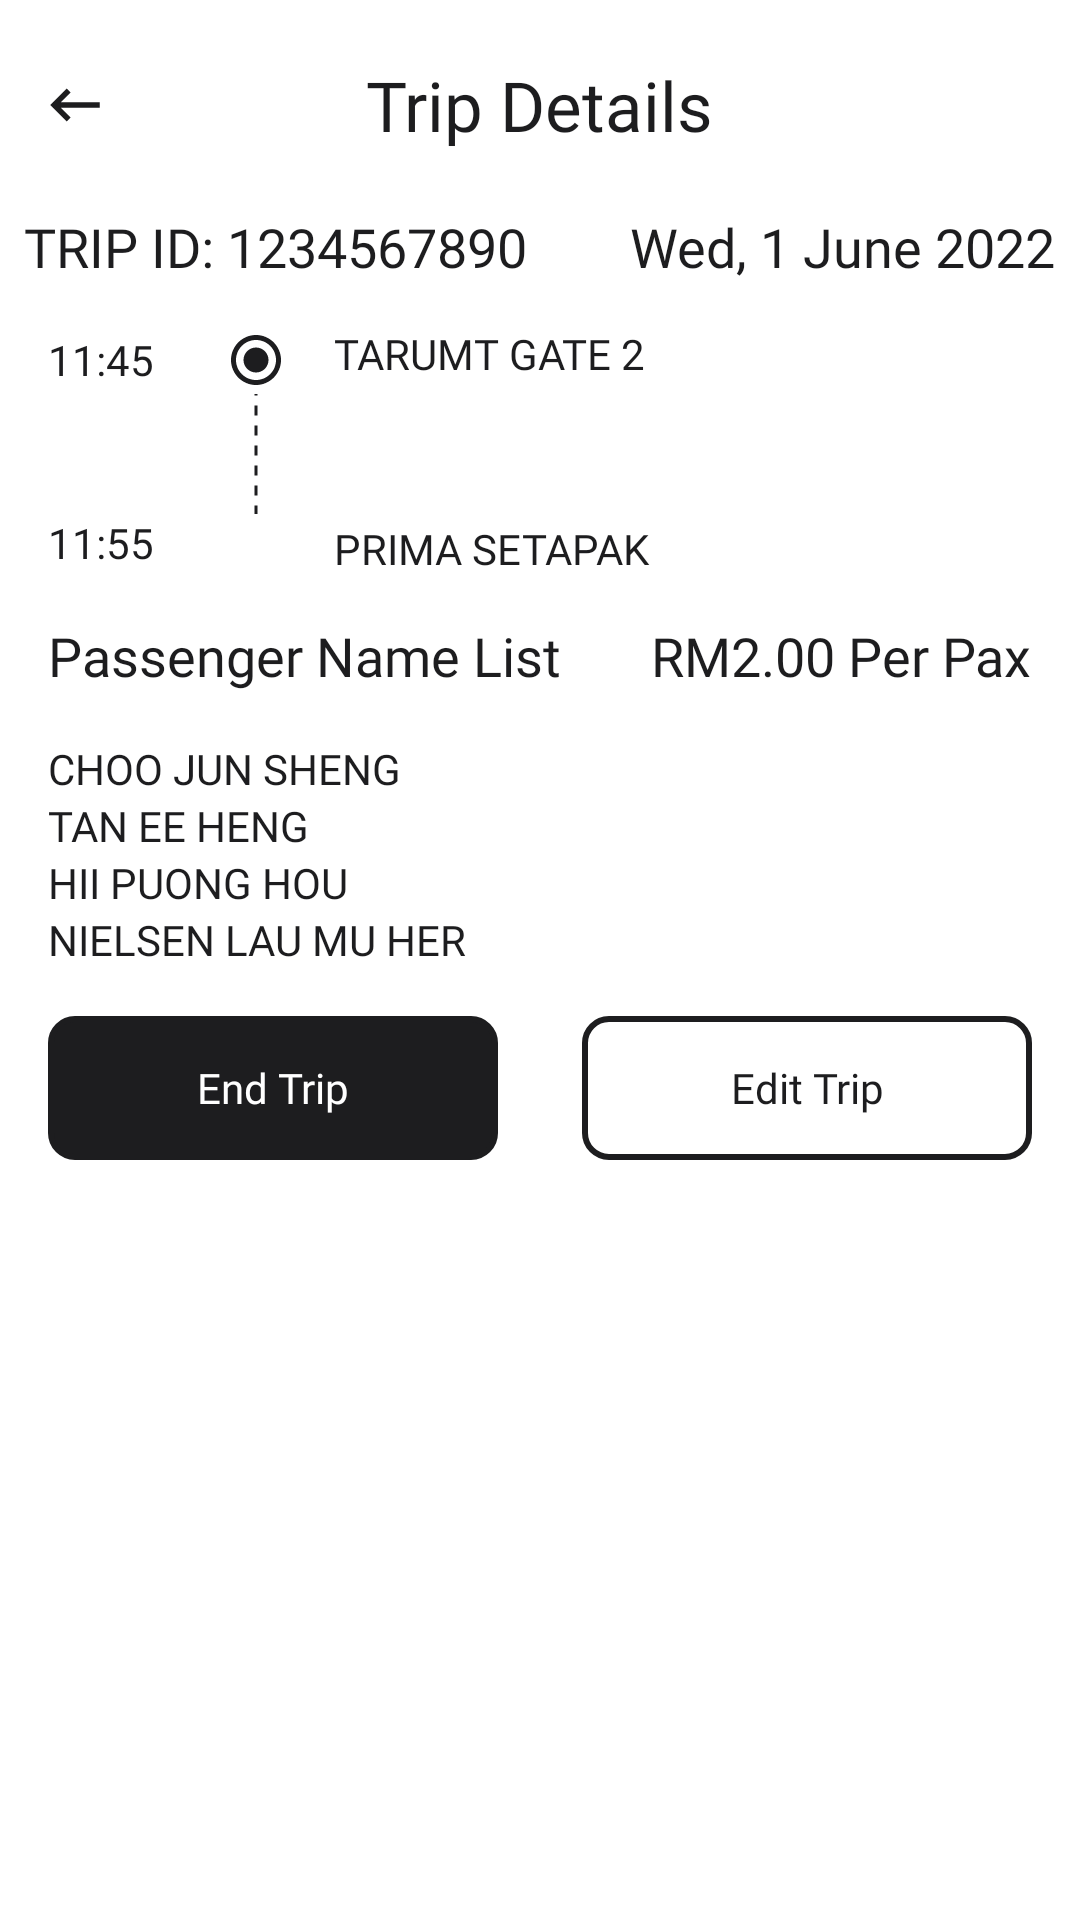

Locate icon controls on the screen. Image size 1080 × 1920, boxes as (x1, y1, x2, y2).
keyboard backspace: (50, 88, 100, 122)
pickup: (231, 335, 281, 385)
